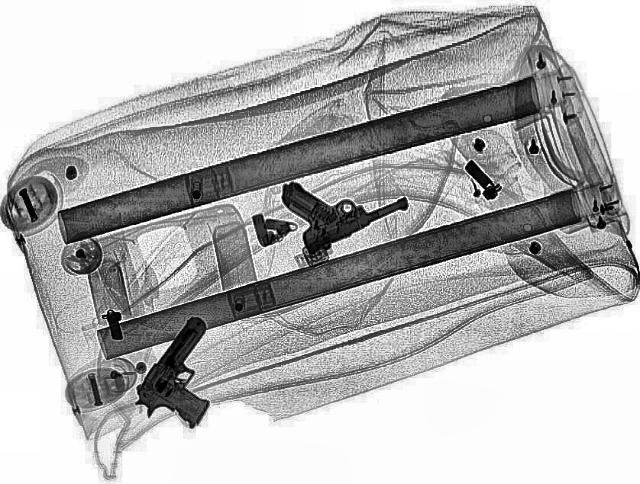Gun: (252, 149, 413, 255), (120, 314, 260, 432)
